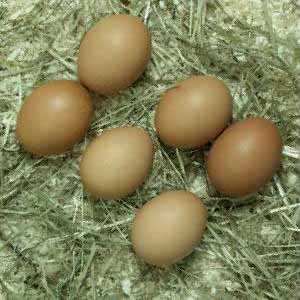egg: (128, 190, 208, 269), (206, 117, 283, 198), (78, 15, 150, 95), (156, 76, 233, 150), (80, 126, 155, 201), (16, 81, 93, 154)
